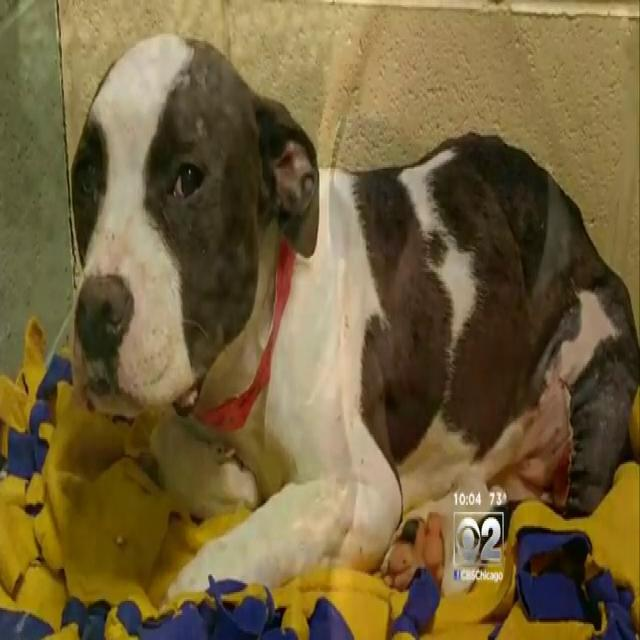normal_animals: (57, 27, 636, 596)
